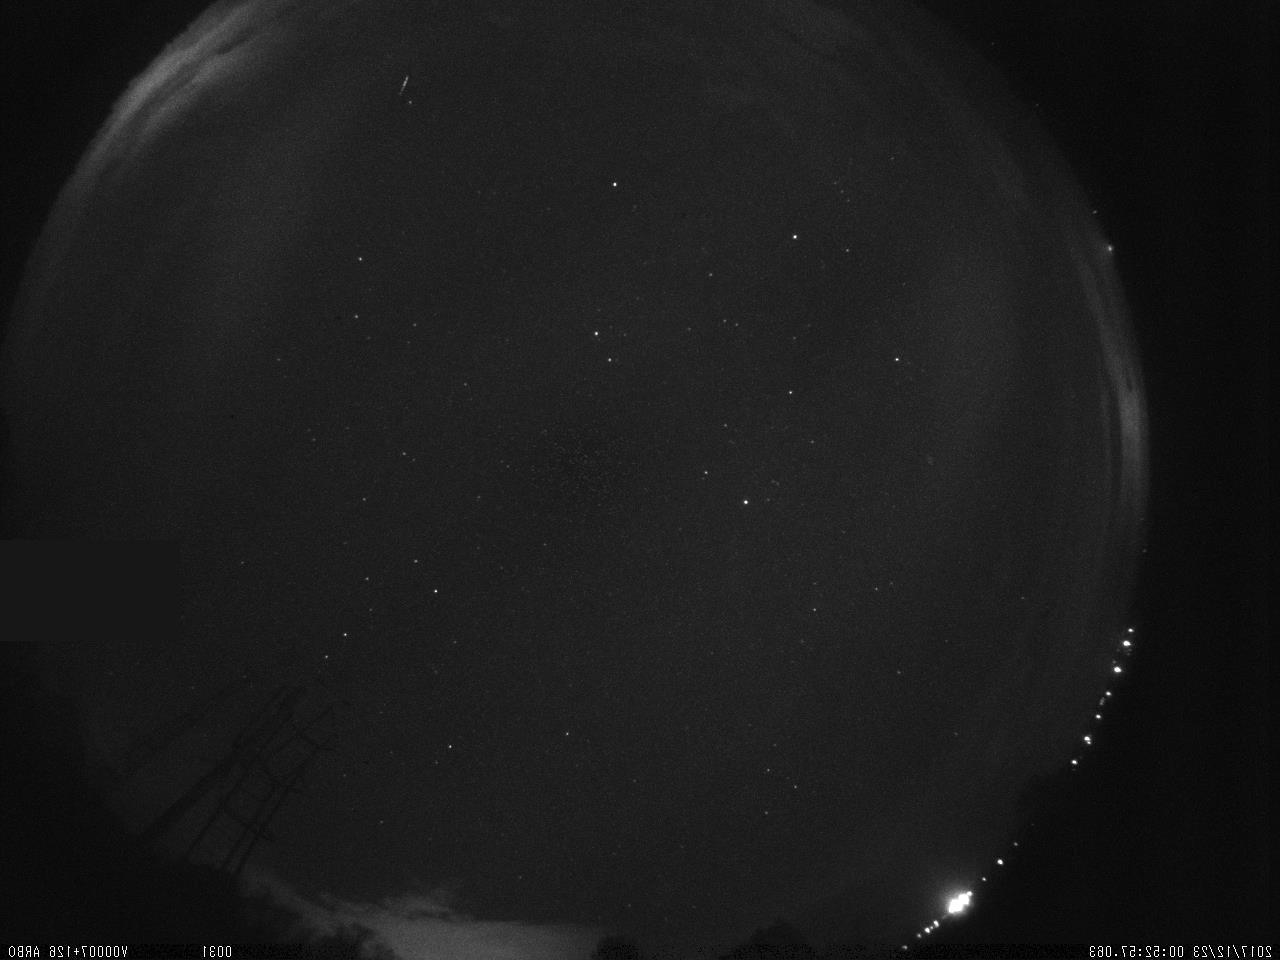meteor: (361, 47, 439, 137)
